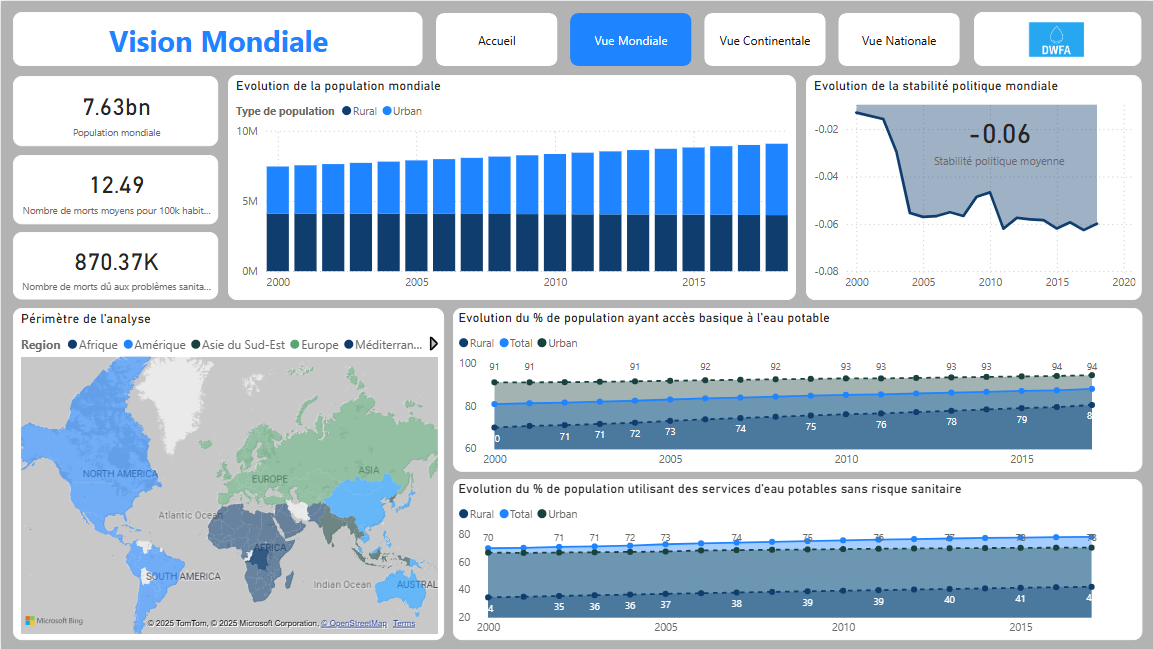

The dashboard page shown, as its layout file describes it:
{"tool":"powerbi","page":{"name":"Vue Mondiale","canvas":[1280,720],"ordinal":1},"visuals":[{"type":"filledMap","title":"Périmètre de l''analyse","fields":{"Category":["RegionCountry.Country"],"Series":["RegionCountry.Region"]},"box":[13,341,479,369],"z":0},{"type":"card","fields":{"Values":["Sum(Population.Population (unité))"]},"box":[13,83,228,78],"z":1000},{"type":"columnChart","title":"Evolution de la population mondiale","fields":{"Category":["Population.Year"],"Y":["Sum(Population.Population (en milliers))"],"Series":["Population.Granularity"]},"box":[252,82,631,250],"z":2000},{"type":"card","fields":{"Values":["Avg(MortalityRateAttributedToWater.Mortality rate attributed to exposure to unsafe WASH services)"]},"box":[13,171,228,77],"z":3000},{"type":"card","fields":{"Values":["Sum(MortalityRateAttributedToWater.WASH deaths)"]},"box":[13,257,228,75],"z":4000},{"type":"areaChart","title":"Evolution de la stabilité politique mondiale","fields":{"Y":["Avg(PoliticalStability.Political_Stability)"],"Category":["PoliticalStability.Year"]},"box":[894,82,373,250],"z":5000},{"type":"card","fields":{"Values":["Avg(PoliticalStability.Political_Stability)"]},"box":[1001,100,216,107],"z":6000},{"type":"textbox","box":[13,12,455,60],"z":7000},{"type":"areaChart","title":"Evolution du % de population ayant accès basique à l''eau potable","fields":{"Category":["BasicAndSafelyManagedDrinkingWaterServices.Year"],"Y":["Avg(BasicAndSafelyManagedDrinkingWaterServices.Population using at least basic drinking-water services (%))"],"Series":["BasicAndSafelyManagedDrinkingWaterServices.Granularity"]},"box":[502,341,766,182],"z":8000},{"type":"areaChart","title":"Evolution du % de population utilisant des services d''eau potables sans risque sanitaire","fields":{"Category":["BasicAndSafelyManagedDrinkingWaterServices.Year"],"Series":["BasicAndSafelyManagedDrinkingWaterServices.Granularity"],"Y":["Avg(BasicAndSafelyManagedDrinkingWaterServices.Population using safely managed drinking-water services (%))"]},"box":[502,531,766,179],"z":9000},{"type":"shape","box":[1081,12,186,60],"z":10000},{"type":"image","box":[1081,13,186,60],"z":11000},{"type":"pageNavigator","box":[483,13,585,59],"z":12000}]}

Visuals, with their boxes in screenshot pixels (x1, y1, x2, y2), scaled from the page's 1280x720 canvas onto the 1153x649 screenshot:
"Périmètre de l''analyse" filledMap: 12, 307, 443, 640
card - Sum(Population.Population (unité)): 12, 75, 217, 145
"Evolution de la population mondiale" columnChart: 227, 74, 795, 299
card - Avg(MortalityRateAttributedToWater.Mortality rate attributed to exposure to unsafe WASH services): 12, 154, 217, 224
card - Sum(MortalityRateAttributedToWater.WASH deaths): 12, 232, 217, 299
"Evolution de la stabilité politique mondiale" areaChart: 805, 74, 1141, 299
card - Avg(PoliticalStability.Political_Stability): 902, 90, 1096, 187
textbox: 12, 11, 422, 65
"Evolution du % de population ayant accès basique à l''eau potable" areaChart: 452, 307, 1142, 471
"Evolution du % de population utilisant des services d''eau potables sans risque sanitaire" areaChart: 452, 479, 1142, 640
shape: 974, 11, 1141, 65
image: 974, 12, 1141, 66
pageNavigator: 435, 12, 962, 65
